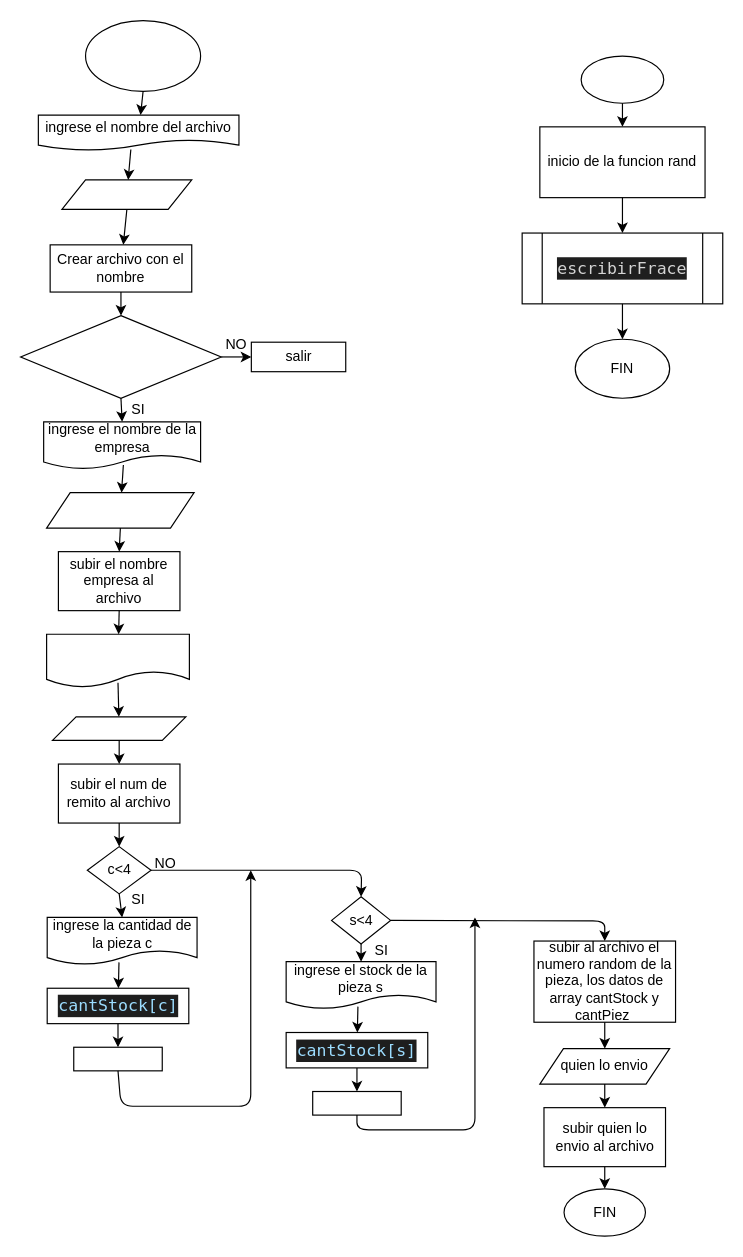
This 743x1257 diagram has some shape labels left out. Here are the shapes that lost their labels. From the top down, the centre of each, then its label:
point (142, 55): INICIO func escribirFrace
point (622, 79): INICIO
point (126, 194): nombreArchivo
point (120, 356): ocurrio algun error
point (119, 509): nombre empresa
point (117, 660): ingrese el numero de remito
point (118, 728): num de remito
point (117, 1058): C <-C+1
point (356, 1102): s <-s+1
